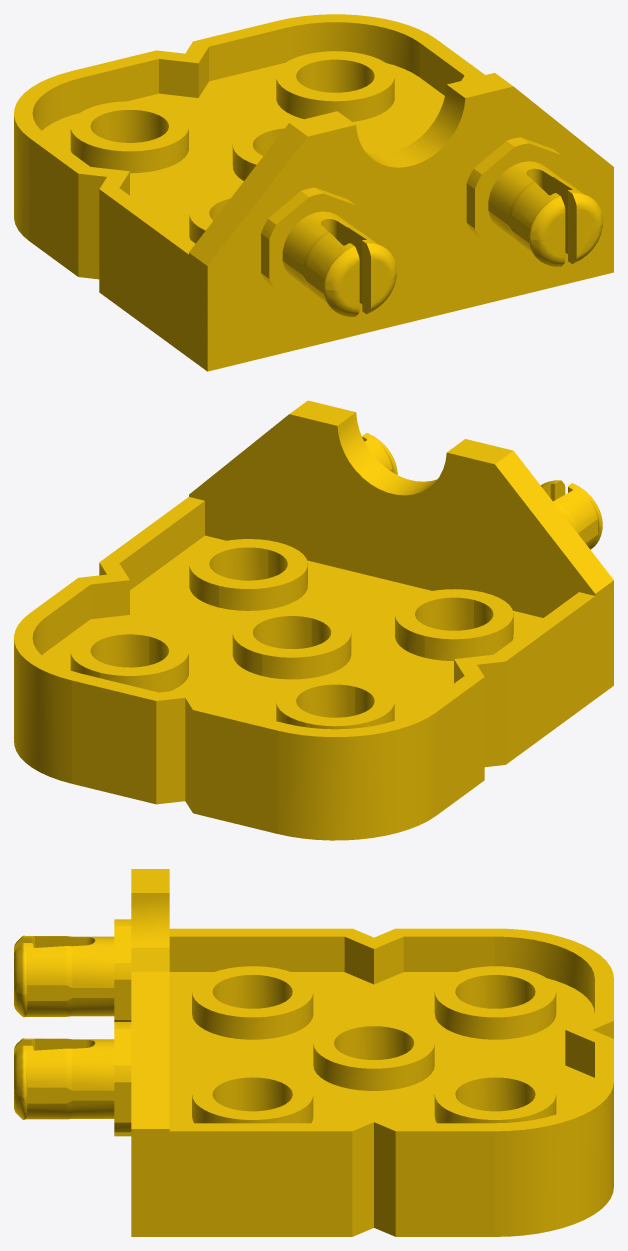
Rendered from 2x Wide, 2x2 Corner Connector (Weak) (228-2500-2295).glb.
3 renders of one model, top to bottom at view 1: azimuth 30°, elevation 25°; view 2: azimuth 150°, elevation 25°; view 3: azimuth 270°, elevation 25°, orthographic. The views are drawn at different scales.
Parts seen in each view (by area): view 1: 2x Wide, 2x2 Corner Connector (Weak) (228-2500-2295); view 2: 2x Wide, 2x2 Corner Connector (Weak) (228-2500-2295); view 3: 2x Wide, 2x2 Corner Connector (Weak) (228-2500-2295).
Boxes of the visible parts, bbox=[...] form: 2x Wide, 2x2 Corner Connector (Weak) (228-2500-2295): bbox=[14, 14, 613, 371]; 2x Wide, 2x2 Corner Connector (Weak) (228-2500-2295): bbox=[14, 400, 613, 840]; 2x Wide, 2x2 Corner Connector (Weak) (228-2500-2295): bbox=[14, 869, 613, 1236].
Size of the model in its own units: 0.9882 by 0.4892 by 1.24.
